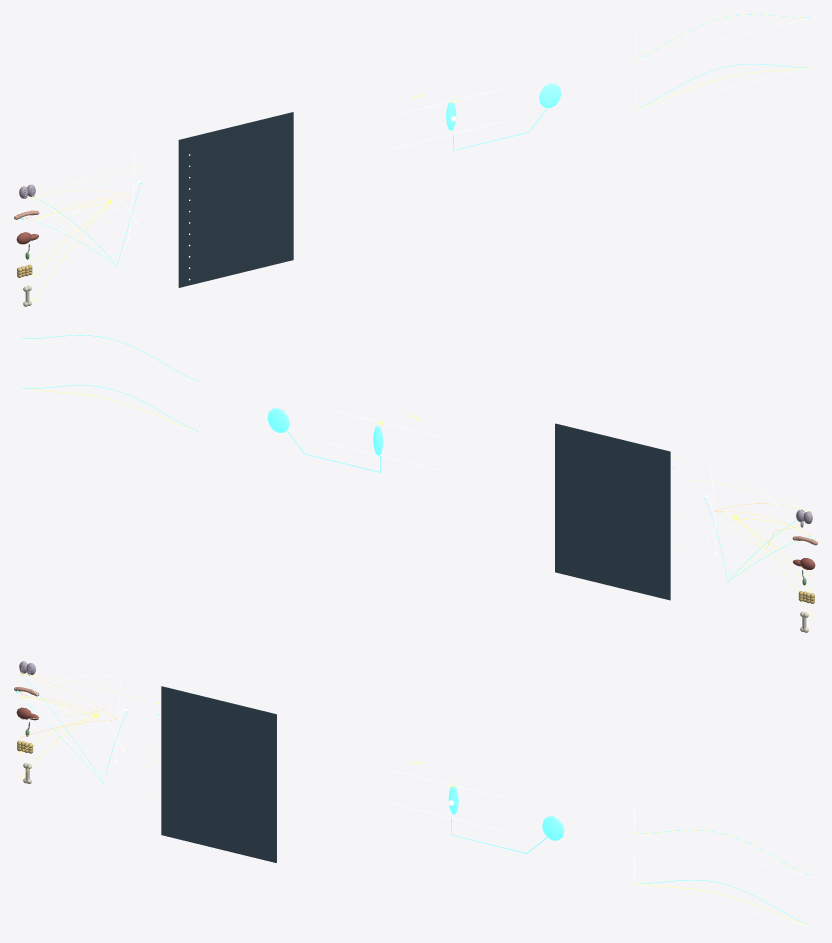
File: teaching.glb
The picture shows the model from 3 angles, top to bottom: view 1: azimuth 30°, elevation 25°; view 2: azimuth 150°, elevation 25°; view 3: azimuth 330°, elevation 25°; orthographic projection.
Visible parts, largest first — view 1: web_legend_panel; view 2: web_legend_panel; view 3: web_legend_panel.
Part boxes in pixels (x1,y1,x2,y2): web_legend_panel: (178, 112, 293, 287); web_legend_panel: (555, 423, 670, 600); web_legend_panel: (161, 686, 276, 862).
Size of the model in its own units: 202 by 35.7 by 8.63.
